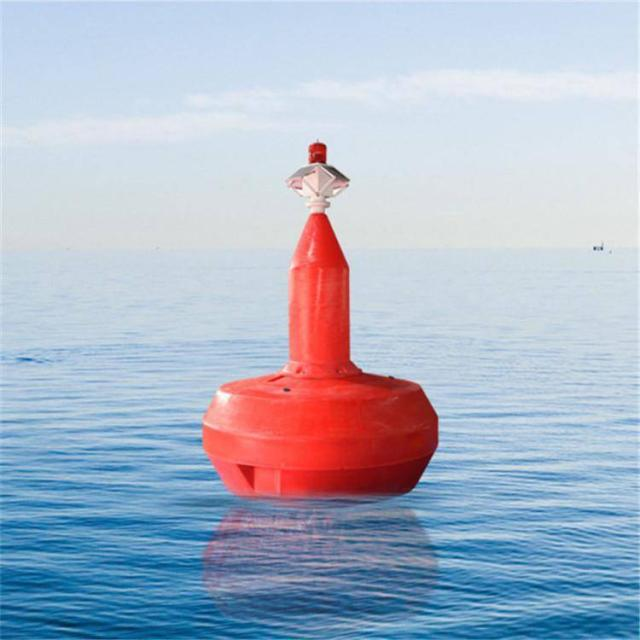buoy: (193, 135, 440, 506)
